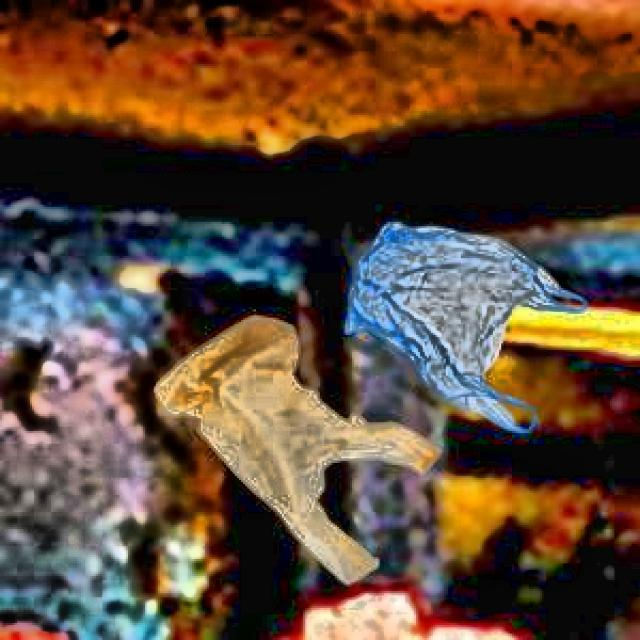Plastic: (168, 312, 451, 587), (330, 212, 592, 446)
